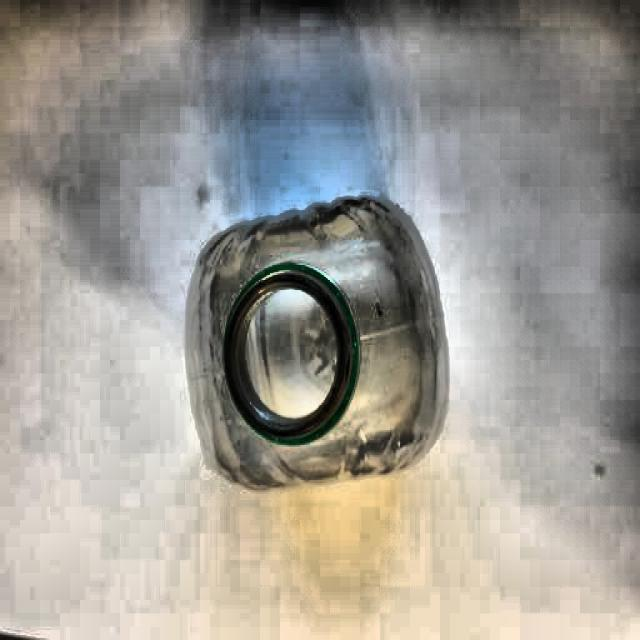plastic: (182, 199, 453, 491)
